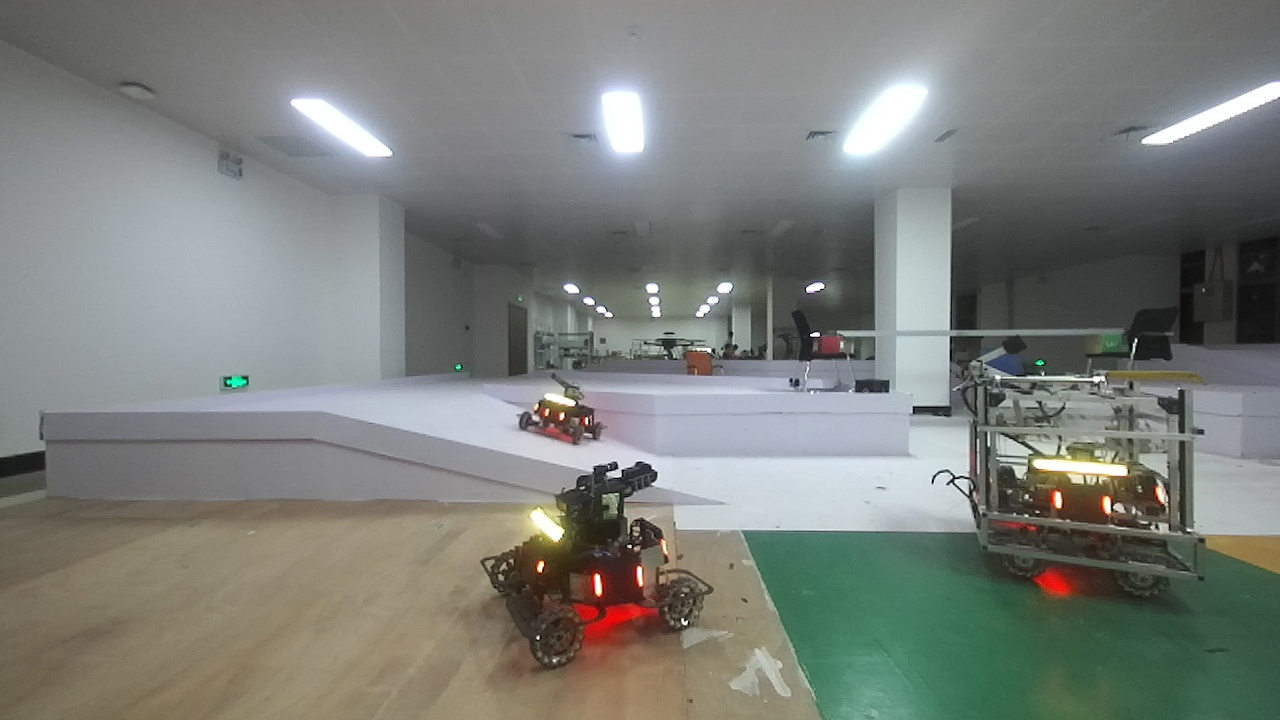car: (926, 346, 1214, 610), (477, 448, 729, 678), (496, 360, 617, 457)
